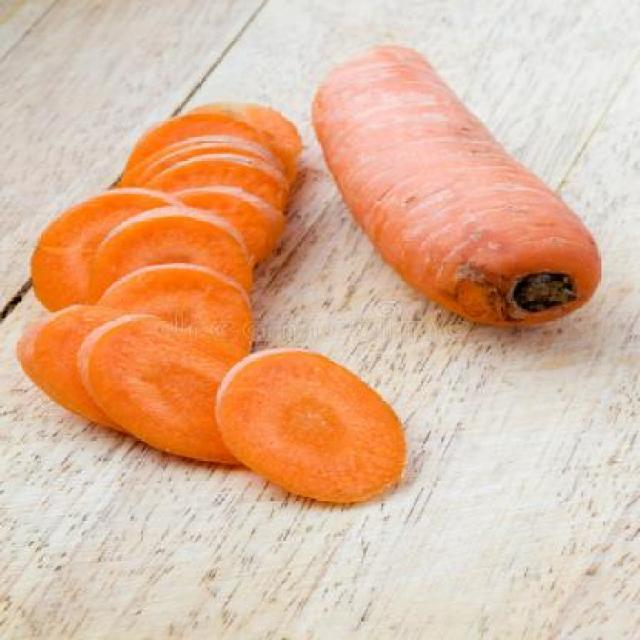carrot: (303, 44, 607, 341)
